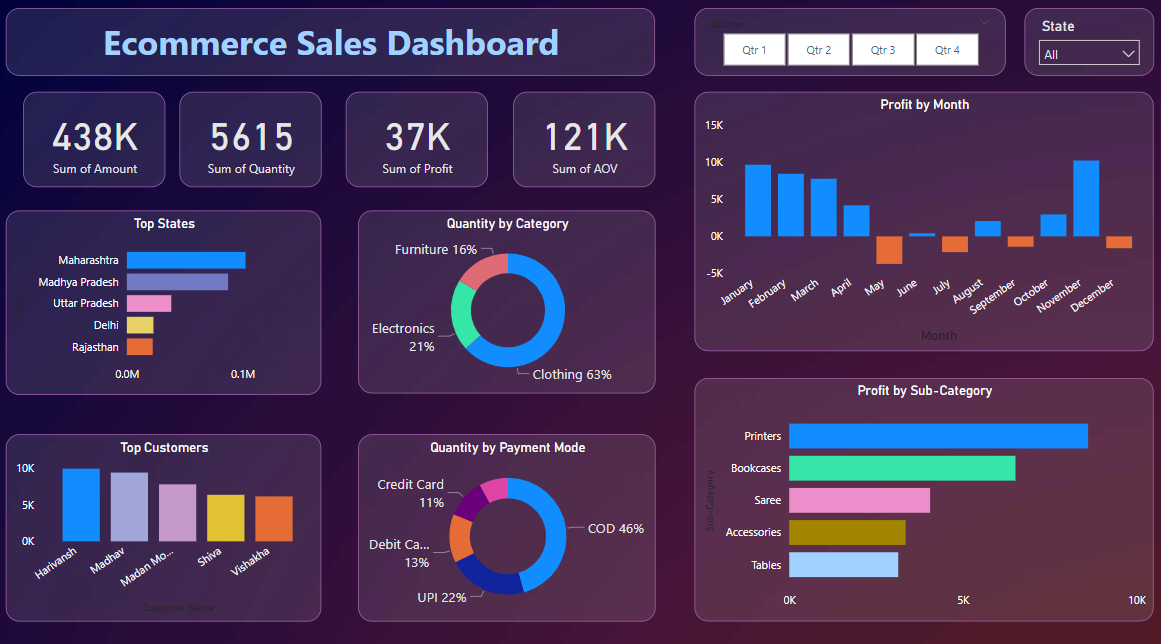

This screenshot's page, from the dashboard's own definition file:
{"tool":"powerbi","page":{"name":"Page 1","canvas":[1280,720],"ordinal":0},"visuals":[{"type":"textbox","box":[9.9,11.6,713,74.6],"z":0},{"type":"columnChart","title":"Profit by Month","fields":{"Category":["Orders.Order Date.Variation.Date Hierarchy.Month"],"Y":["Sum(Details.Profit)"]},"box":[766,102.8,504,285.2],"z":1000},{"type":"barChart","title":"Profit by Sub-Category","fields":{"Category":["Details.Sub-Category"],"Y":["Sum(Details.Profit)"]},"box":[766,417.8,504,266.9],"z":2000},{"type":"donutChart","title":"Quantity by Category","fields":{"Category":["Details.Category"],"Y":["CountNonNull(Details.Quantity)"]},"box":[396.3,233.8,326.6,200.6],"z":3000},{"type":"donutChart","title":"Quantity by Payment Mode","fields":{"Y":["CountNonNull(Details.Quantity)"],"Category":["Details.PaymentMode"]},"box":[396.3,479.2,326.6,205.6],"z":4000},{"type":"card","fields":{"Values":["Sum(Details.Amount)"]},"box":[28.2,102.8,155.9,104.5],"z":5000},{"type":"card","fields":{"Values":["Sum(Details.Quantity)"]},"box":[200.6,102.8,155.9,104.5],"z":6000},{"type":"card","fields":{"Values":["Sum(Details.Profit)"]},"box":[383,102.8,155.9,104.5],"z":7000},{"type":"card","fields":{"Values":["Sum(Details.AOV)"]},"box":[567,102.8,155.9,104.5],"z":8000},{"type":"barChart","title":"Top States","fields":{"Category":["Orders.State"],"Y":["Sum(Details.Amount)"]},"box":[9.9,233.8,346.5,202.3],"z":9000},{"type":"columnChart","title":"Top Customers","fields":{"Category":["Orders.Customer Name"],"Y":["Sum(Details.Amount)"]},"box":[9.9,479.2,346.5,205.6],"z":10000},{"type":"slicer","fields":{"Values":["Orders.Order Date.Variation.Date Hierarchy.Quarter"]},"box":[766,11.6,341.6,74.6],"z":10001},{"type":"slicer","fields":{"Values":["Orders.State"]},"box":[1127.5,11.6,142.6,74.6],"z":10002}]}

Visuals, with their boxes in screenshot pixels (x1, y1, x2, y2), scaled from the page's 1280x720 canvas onto the 1161x644 screenshot:
textbox: l=9, t=10, r=656, b=77
"Profit by Month" columnChart: l=695, t=92, r=1152, b=347
"Profit by Sub-Category" barChart: l=695, t=374, r=1152, b=612
"Quantity by Category" donutChart: l=359, t=209, r=656, b=389
"Quantity by Payment Mode" donutChart: l=359, t=429, r=656, b=613
card - Sum(Details.Amount): l=26, t=92, r=167, b=185
card - Sum(Details.Quantity): l=182, t=92, r=323, b=185
card - Sum(Details.Profit): l=347, t=92, r=489, b=185
card - Sum(Details.AOV): l=514, t=92, r=656, b=185
"Top States" barChart: l=9, t=209, r=323, b=390
"Top Customers" columnChart: l=9, t=429, r=323, b=613
slicer - Orders.Order Date.Variation.Date Hierarchy.Quarter: l=695, t=10, r=1005, b=77
slicer - Orders.State: l=1023, t=10, r=1152, b=77
